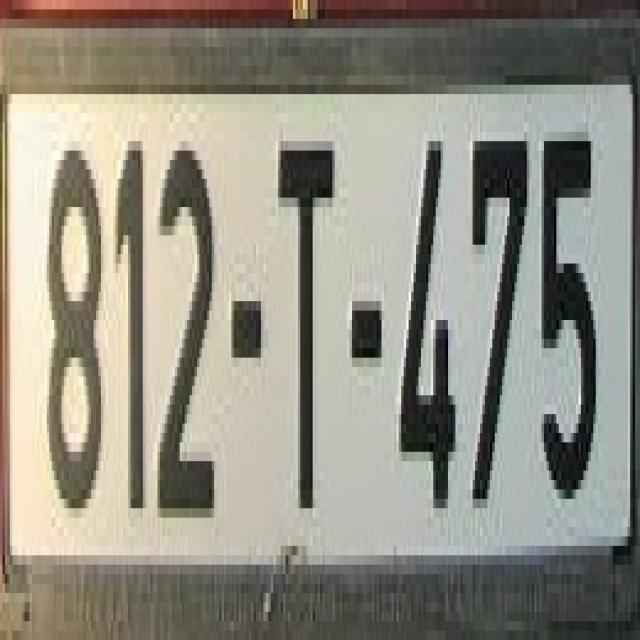1: (110, 132, 148, 499)
2: (158, 141, 219, 527)
4: (399, 132, 453, 489)
5: (542, 132, 598, 499)
7: (465, 132, 527, 499)
8: (47, 160, 106, 518)
T: (274, 132, 332, 499)
